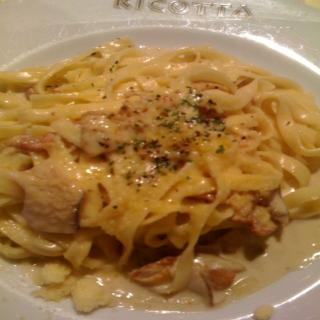Pasta: (0, 34, 319, 314)
